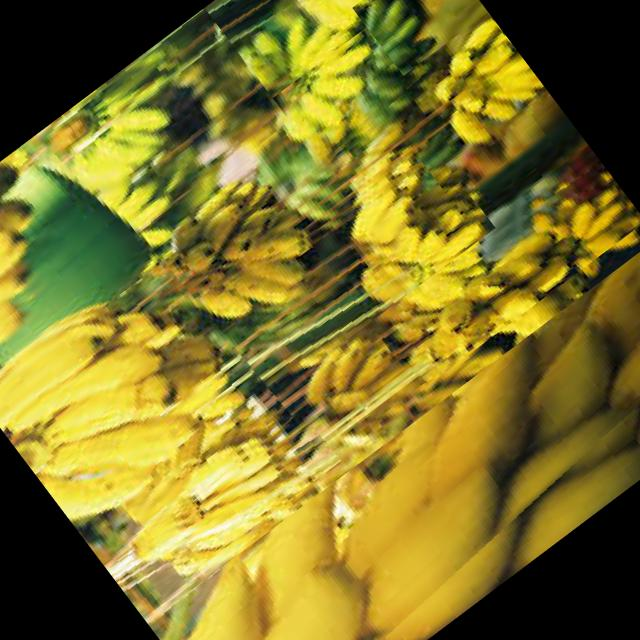Organic: (146, 243, 640, 640), (0, 254, 299, 570), (224, 135, 496, 380), (366, 148, 640, 390), (55, 6, 293, 238), (105, 414, 342, 612), (196, 0, 436, 192), (370, 6, 559, 192), (0, 125, 128, 366), (204, 0, 451, 97), (352, 0, 488, 75)
